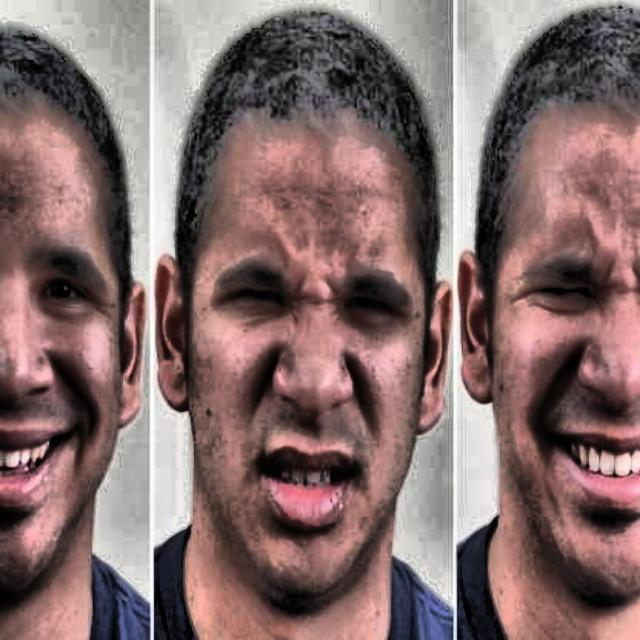disgust: (148, 7, 458, 640)
happy: (462, 2, 640, 640), (1, 2, 142, 640)
